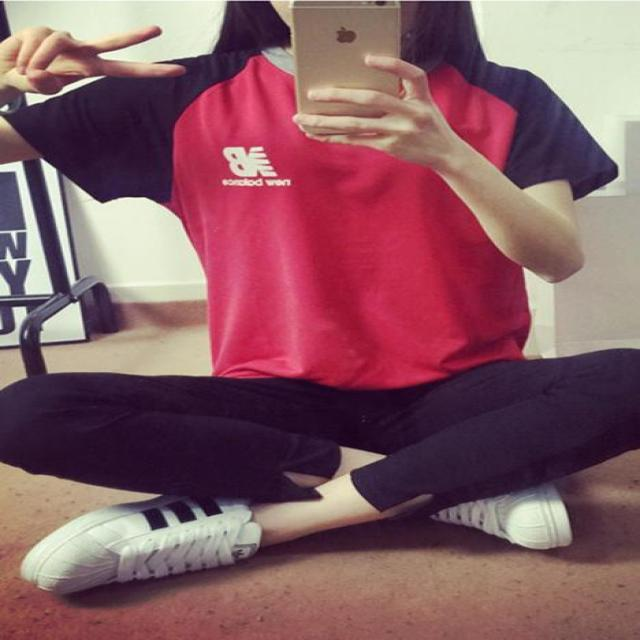short-sleeve-top: (35, 26, 640, 377)
trousers: (15, 388, 640, 522)
